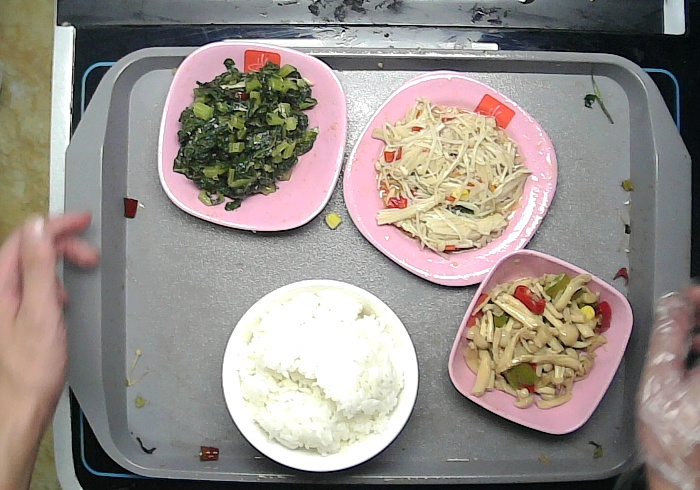SHKJ-Fan_Wan: (219, 275, 421, 473)
SHKJ-Fen_Se_Cai_Die: (153, 38, 349, 233)
SHKJ-Fen_Se_Si_Fang_Cai_Die: (342, 69, 560, 289)
SHKJ-Fen_Se_Xiao_Fang_Die: (445, 247, 636, 435)
